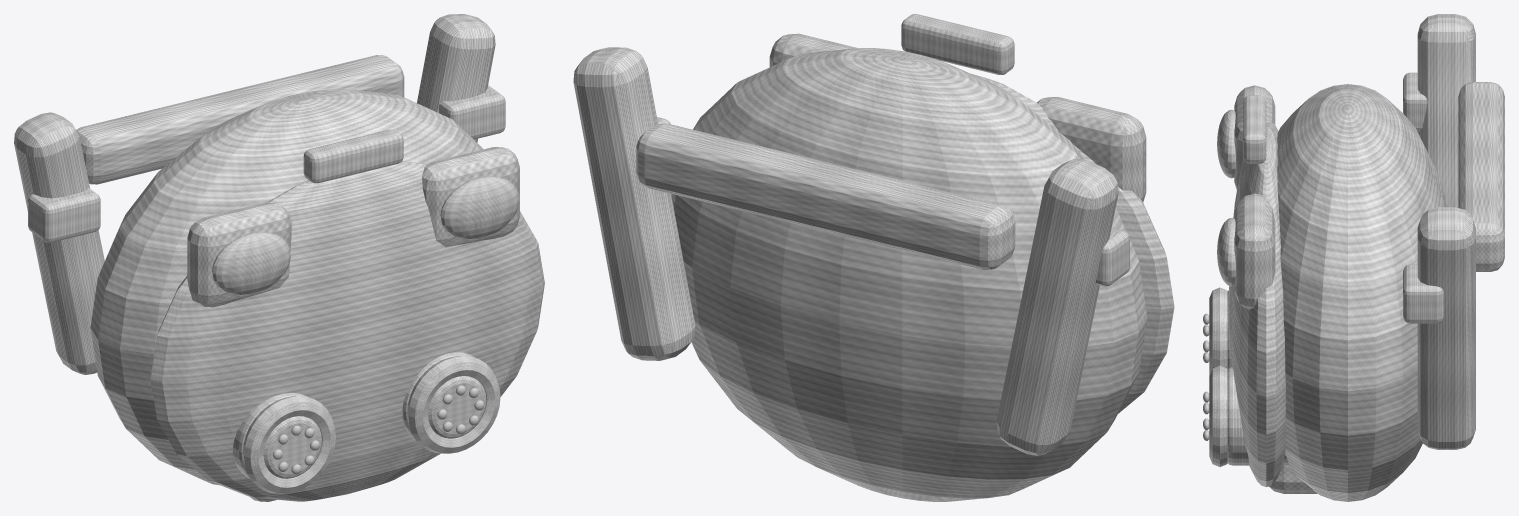
File: gas_mask_variant_d.glb
3 renders of one model, left to right at view 1: azimuth 30°, elevation 25°; view 2: azimuth 150°, elevation 25°; view 3: azimuth 270°, elevation 25°, orthographic. The views are drawn at different scales.
Parts seen in each view (by area): view 1: Full perimeter seal, Armored face shell, Rear strap bridge.003, Head strap.006, Head strap.007, Angular lens frame.001, Filter retaining ring, Filter retaining ring.005, Angular lens frame, Angular lens, Angular lens.001, Forehead ID plate (+6 smaller); view 2: Armored face shell, Rear strap bridge.003, Head strap.007, Head strap.006, Full perimeter seal, Angular lens frame.001, Forehead ID plate, Strap adjuster.006, Angular lens frame; view 3: Armored face shell, Head strap.007, Full perimeter seal, Rear strap bridge.003, Head strap.006, Angular lens frame, Strap adjuster.007, Filter retaining ring, Forehead ID plate, Filter retaining ring.005, Filter housing.005, Angular lens frame.001 (+4 smaller).
Part boxes in pixels (bbox=[...]): Full perimeter seal: bbox=[150, 161, 544, 501]; Armored face shell: bbox=[90, 89, 483, 485]; Rear strap bridge.003: bbox=[76, 55, 404, 184]; Head strap.006: bbox=[14, 112, 104, 374]; Head strap.007: bbox=[417, 14, 495, 142]; Angular lens frame.001: bbox=[187, 202, 291, 307]; Filter retaining ring: bbox=[407, 356, 500, 453]; Filter retaining ring.005: bbox=[243, 396, 335, 493]; Angular lens frame: bbox=[421, 147, 519, 247]; Angular lens: bbox=[440, 176, 519, 239]; Angular lens.001: bbox=[212, 232, 290, 295]; Forehead ID plate: bbox=[303, 129, 403, 183]; Armored face shell: bbox=[671, 48, 1147, 501]; Rear strap bridge.003: bbox=[636, 123, 1015, 269]; Head strap.007: bbox=[573, 47, 695, 360]; Head strap.006: bbox=[996, 158, 1118, 455]; Full perimeter seal: bbox=[971, 73, 1174, 413]; Angular lens frame.001: bbox=[1037, 97, 1146, 202]; Forehead ID plate: bbox=[901, 14, 1014, 74]; Strap adjuster.006: bbox=[1096, 228, 1129, 286]; Angular lens frame: bbox=[769, 33, 858, 66]; Armored face shell: bbox=[1277, 84, 1447, 501]; Head strap.007: bbox=[1417, 207, 1475, 449]; Full perimeter seal: bbox=[1228, 122, 1285, 486]; Rear strap bridge.003: bbox=[1458, 82, 1504, 271]; Head strap.006: bbox=[1417, 14, 1475, 207]; Angular lens frame: bbox=[1234, 193, 1275, 309]; Strap adjuster.007: bbox=[1403, 264, 1443, 323]; Filter retaining ring: bbox=[1209, 365, 1227, 466]; Forehead ID plate: bbox=[1243, 95, 1266, 163]; Filter retaining ring.005: bbox=[1209, 287, 1227, 375]; Filter housing.005: bbox=[1227, 367, 1288, 465]; Angular lens frame.001: bbox=[1234, 85, 1275, 190].
Size of what is drawn, in the model's own units: 0.8995 by 0.7 by 0.519.
Materials: 8 (8 with a texture image).
